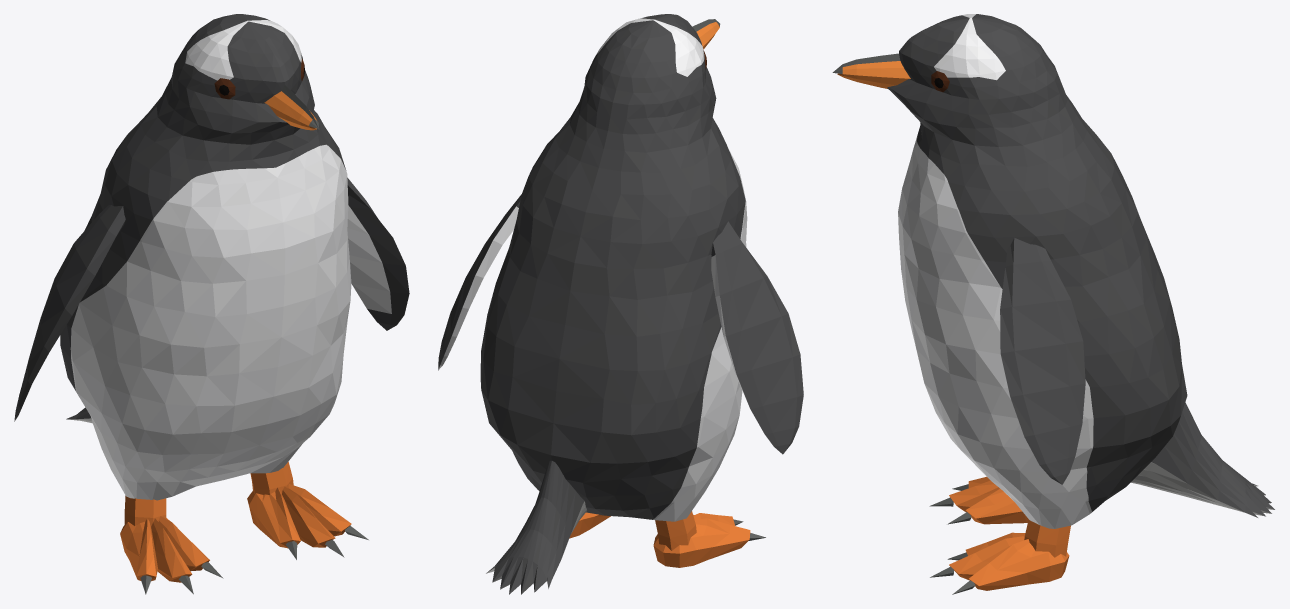
Rendered from Chilli_Willy.glb.
The picture shows the model from 3 angles, left to right: view 1: azimuth 30°, elevation 25°; view 2: azimuth 150°, elevation 25°; view 3: azimuth 270°, elevation 25°; orthographic projection. The views are drawn at different scales.
Visible parts, largest first — view 1: Pinguino; view 2: Pinguino; view 3: Pinguino.
Part boxes in pixels (x1,y1,x2,y2): Pinguino: (14,14,409,594); Pinguino: (438,14,803,594); Pinguino: (832,14,1274,594).
Bounding box in the file's own units: 0.3867 × 0.5198 × 0.3982.
